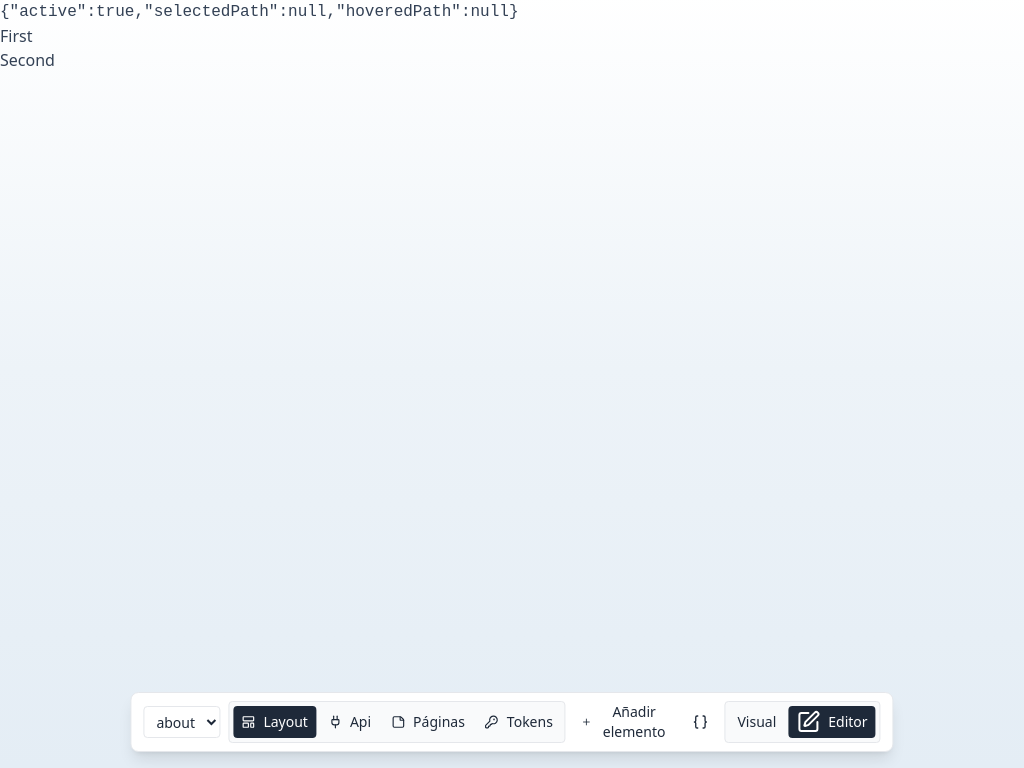
it: DevEditorLayer / selection degrades safely when the layout changes underneath it › clears selectedPath without throwing once the selected node is deleted via a canvas commit
Step 1. Click the text with test id "probe-node-a" → (16, 36), box [0,25,32,47]
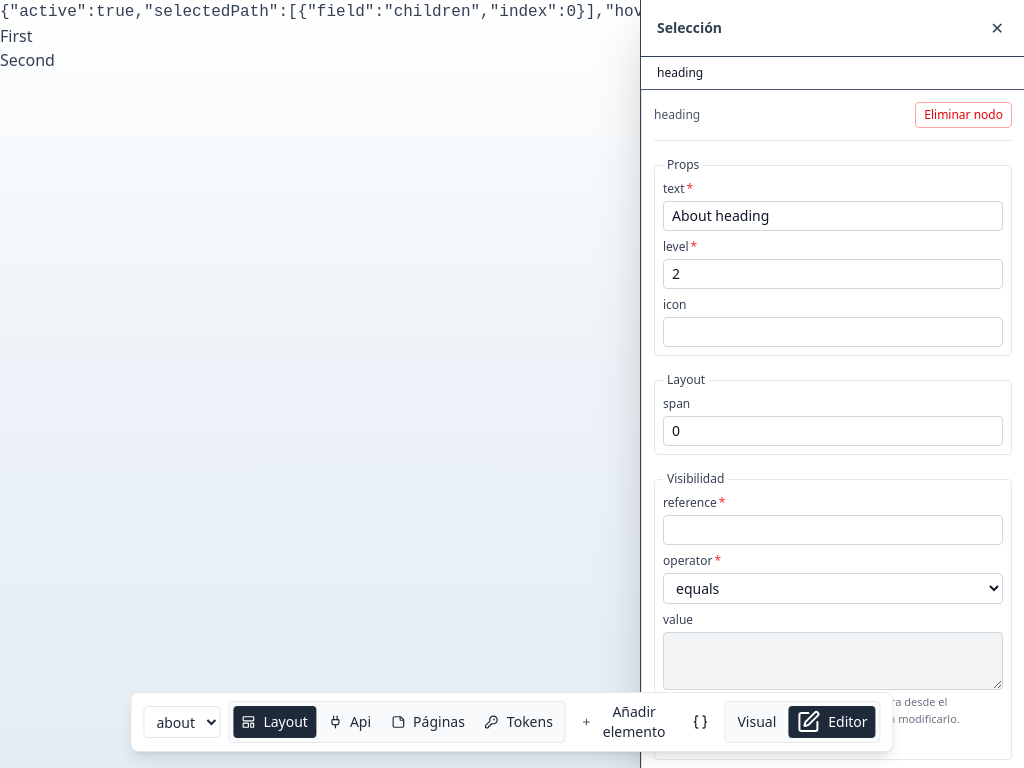
expect the element with test id "dev-editor-selection-overlay" is shown: met, box [640,0,1023,767]
Step 2. Click the button with test id "layout-canvas-delete-node-button" → (964, 115), box [915,102,1012,128]
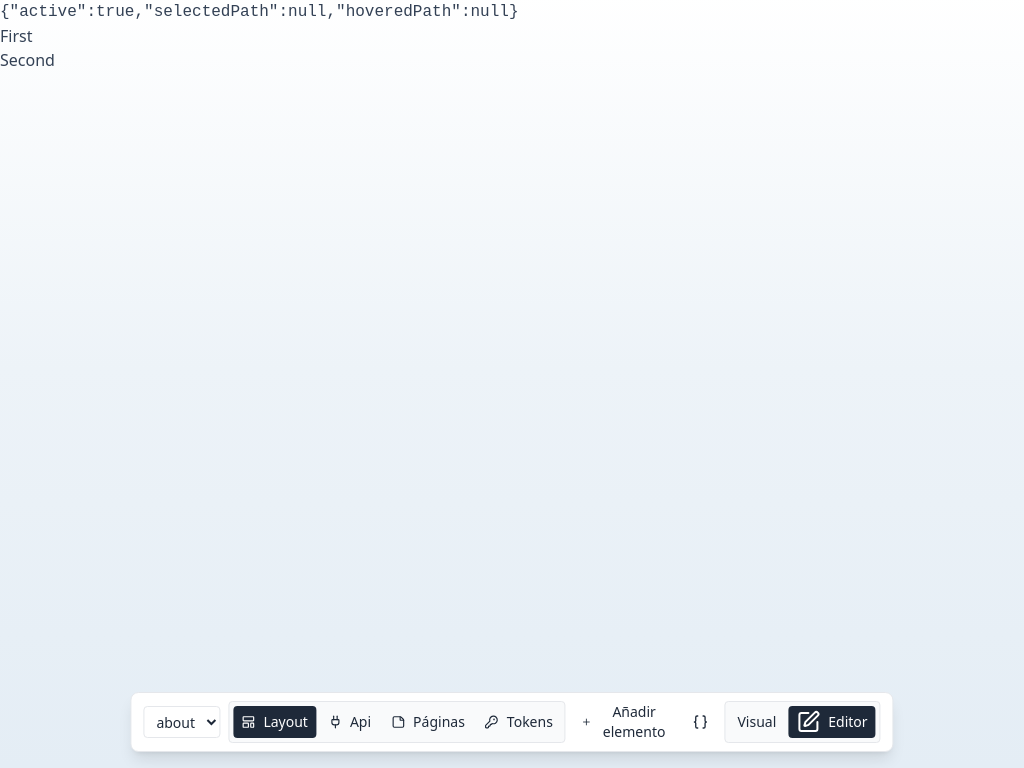
expect the element with test id "dev-editor-selection-overlay" is gone: met
